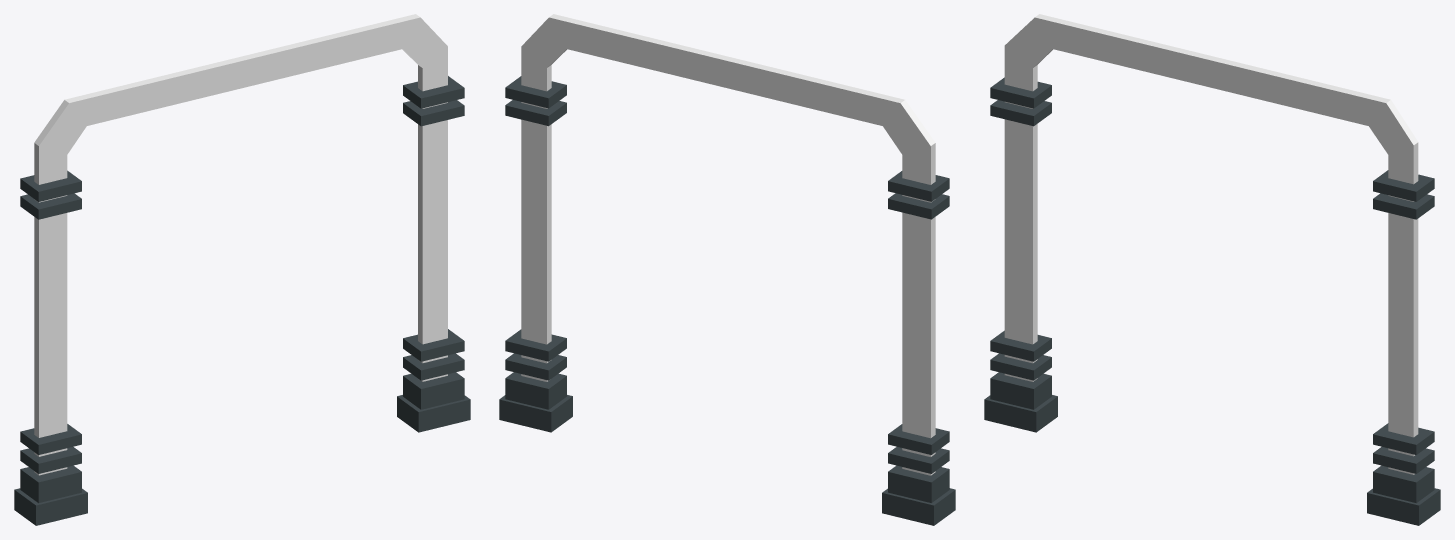
Rendered from Arc 01 White.FBX.
3 renders of one model, left to right at view 1: azimuth 30°, elevation 25°; view 2: azimuth 150°, elevation 25°; view 3: azimuth 330°, elevation 25°, orthographic.
Visible parts, largest first — view 1: Arc 01 White; view 2: Arc 01 White; view 3: Arc 01 White.
Part boxes in pixels (box(x1,y1,x2,y2)): Arc 01 White: box(14, 14, 470, 525); Arc 01 White: box(499, 14, 955, 525); Arc 01 White: box(984, 14, 1440, 525).
Bounding box in the file's own units: 290 × 260 × 25.22.
